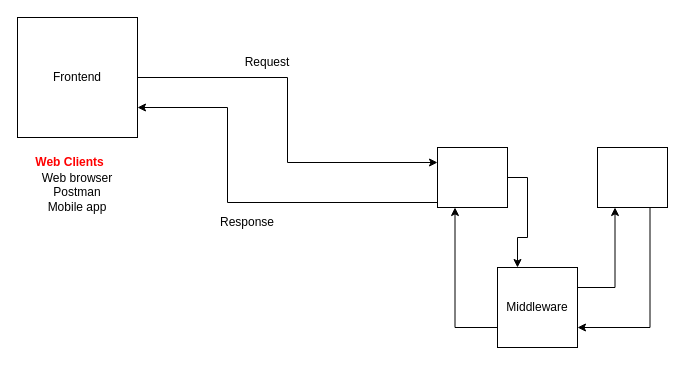
This 685x365 diagram has some shape labels left out. Each missing label, with the centre of its shape:
Routes: the point at 632,177
Web server: the point at 472,177
